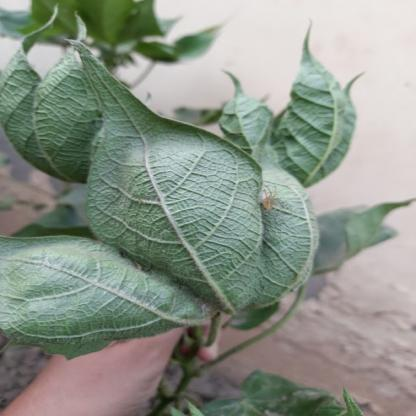curl_stage2: (16, 246, 177, 345), (102, 137, 226, 238), (6, 74, 100, 157), (180, 245, 296, 306), (229, 176, 309, 245), (288, 85, 355, 155), (101, 91, 143, 136)
